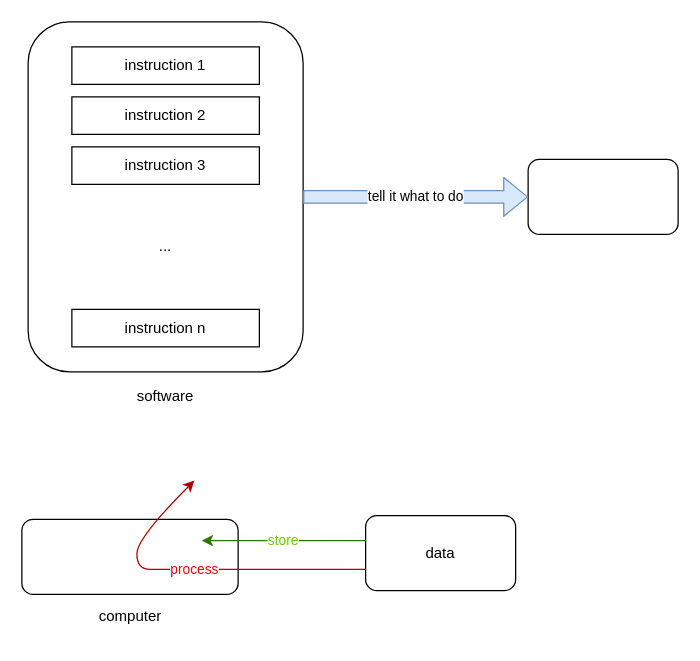
The diagram is 700 pixels wide and 661 high, and some of its shapes have lost their labels. Here are the shapes that lost their labels. From the top down, the centre of each, then its label:
At point 602,196: "computer / computerized device".
At point 129,556: "electronic device".
